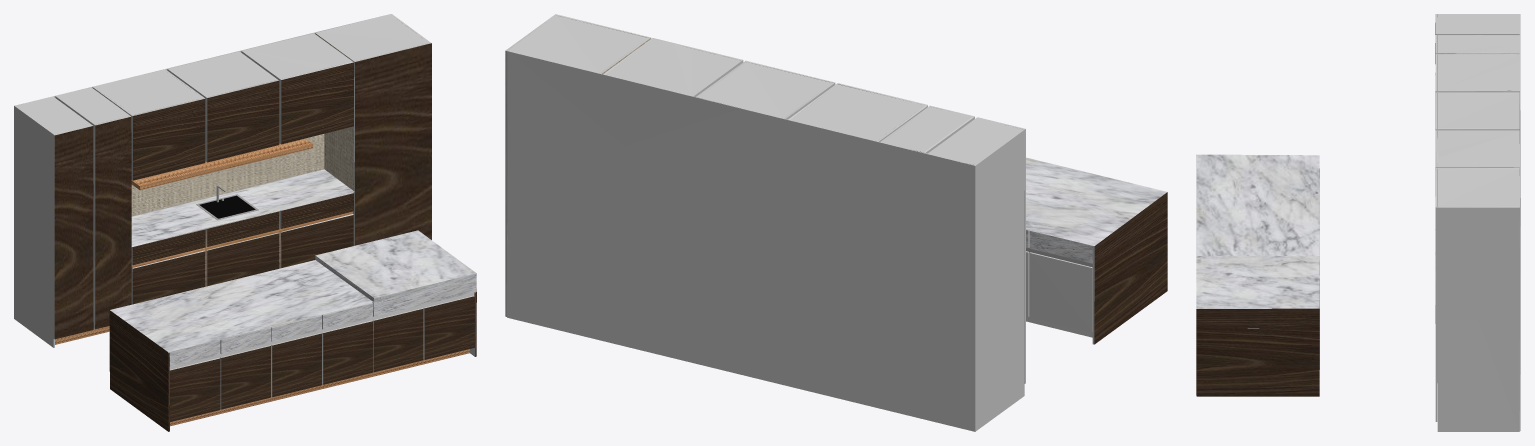
Rendered from keuken.glb.
3 renders of one model, left to right at view 1: azimuth 30°, elevation 25°; view 2: azimuth 150°, elevation 25°; view 3: azimuth 270°, elevation 25°, orthographic. The views are drawn at different scales.
Bounding box in the file's own units: 4.45 × 2.41 × 3.15.
Materials: 6 (4 with a texture image).
